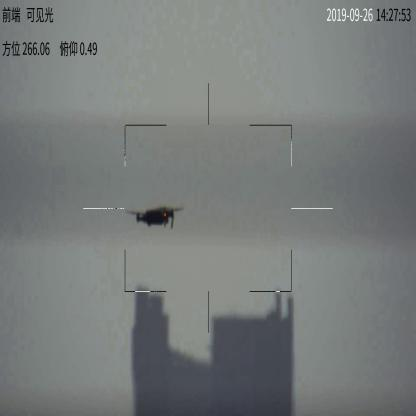uav: (130, 205, 183, 229)
